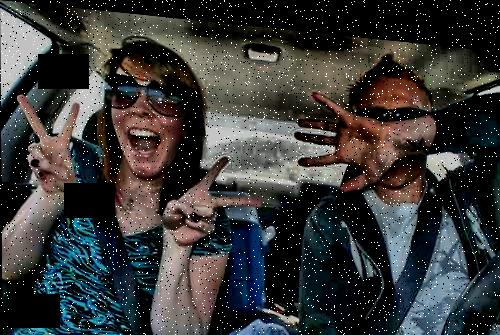seatbelt: (56, 111, 151, 323), (383, 164, 442, 325)
